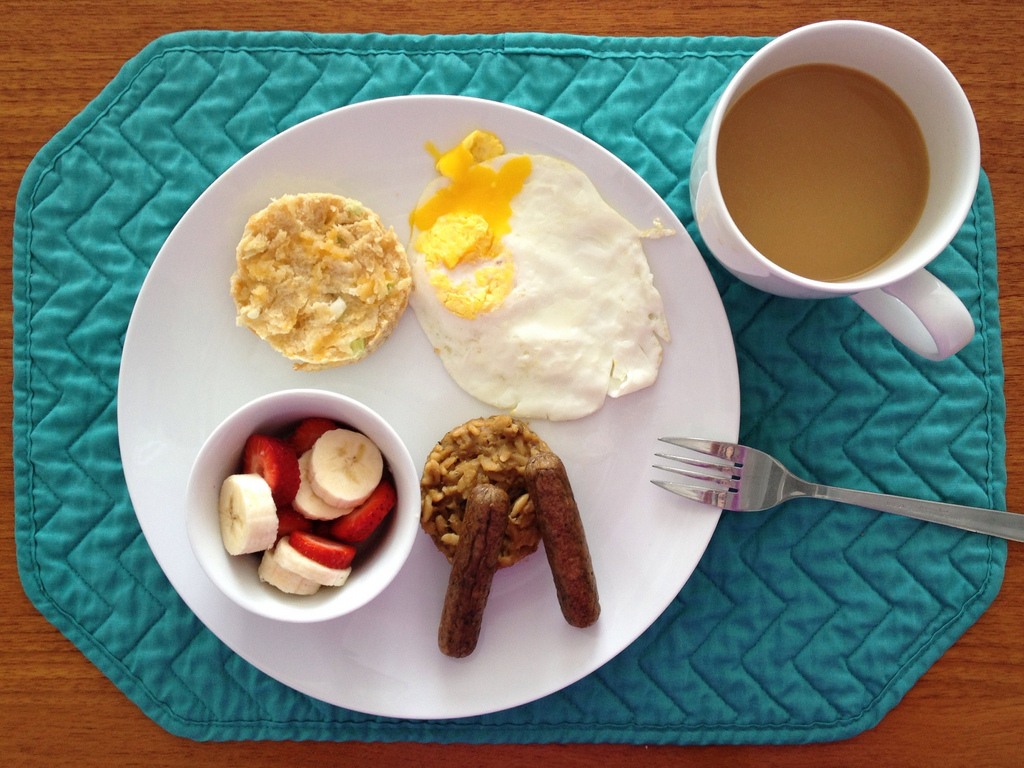fried egg: (407, 149, 662, 411)
